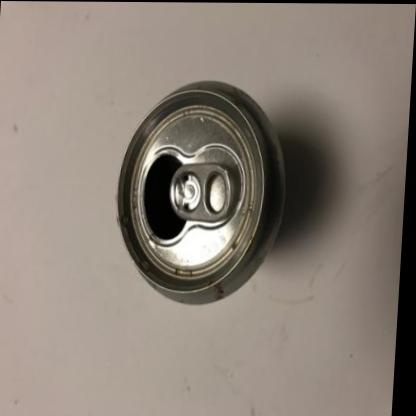trash: (118, 81, 284, 303)
